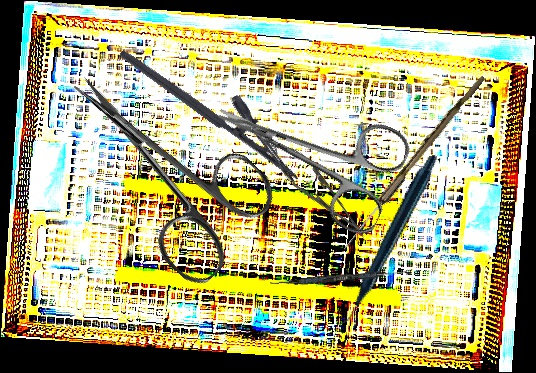Handpiece: (287, 153, 485, 327)
Iris Scissors: (31, 36, 289, 293), (197, 59, 416, 240)
Needle Holder: (118, 24, 317, 185), (261, 133, 376, 247)
Spatula Surgical: (269, 266, 413, 290)
Surgical Spoon: (340, 71, 486, 254)
